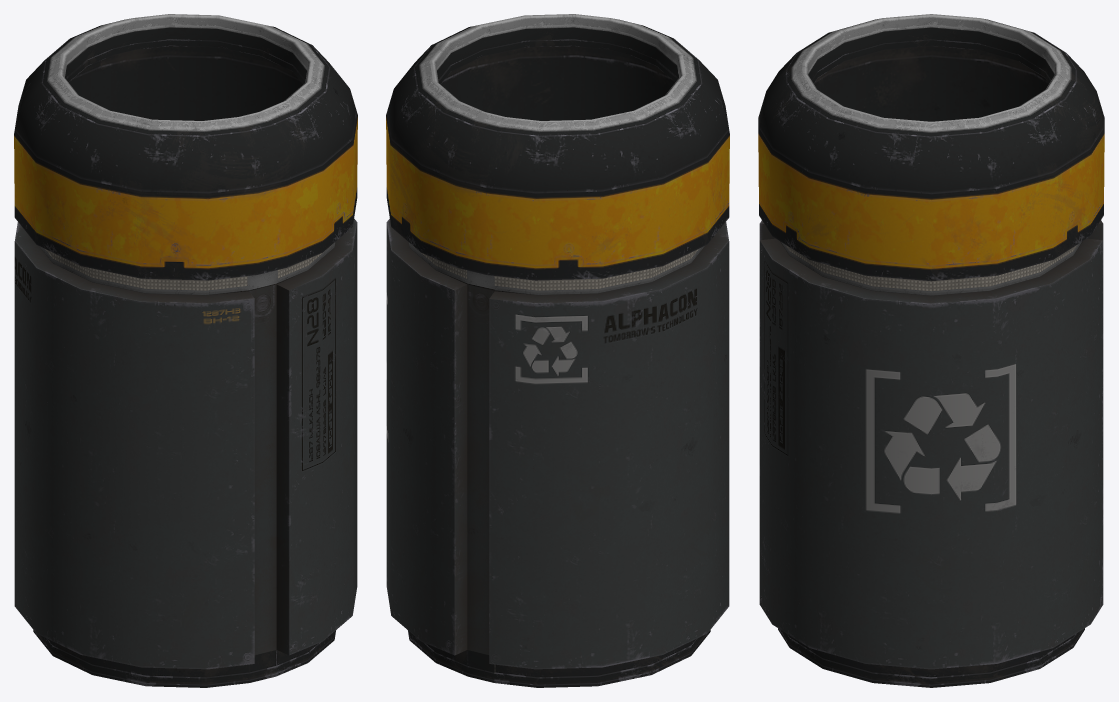
The model's file is Sub_Trash_Bin_L1.fbx.
The picture shows the model from 3 angles, left to right: view 1: azimuth 30°, elevation 25°; view 2: azimuth 150°, elevation 25°; view 3: azimuth 270°, elevation 25°; orthographic projection.
Parts seen in each view (by area): view 1: pCylinder7; view 2: pCylinder7; view 3: pCylinder7.
Boxes of the visible parts, <box> form: pCylinder7: <box>14,14,357,687</box>; pCylinder7: <box>386,14,729,687</box>; pCylinder7: <box>758,14,1104,687</box>.
Size of the model in its own units: 33.45 by 59.15 by 33.45.
